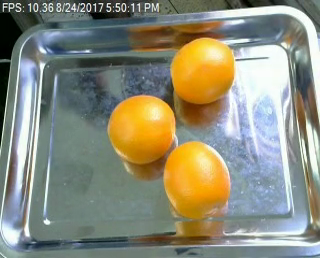Orange: (164, 140, 230, 218), (107, 93, 176, 164), (170, 38, 234, 105)
